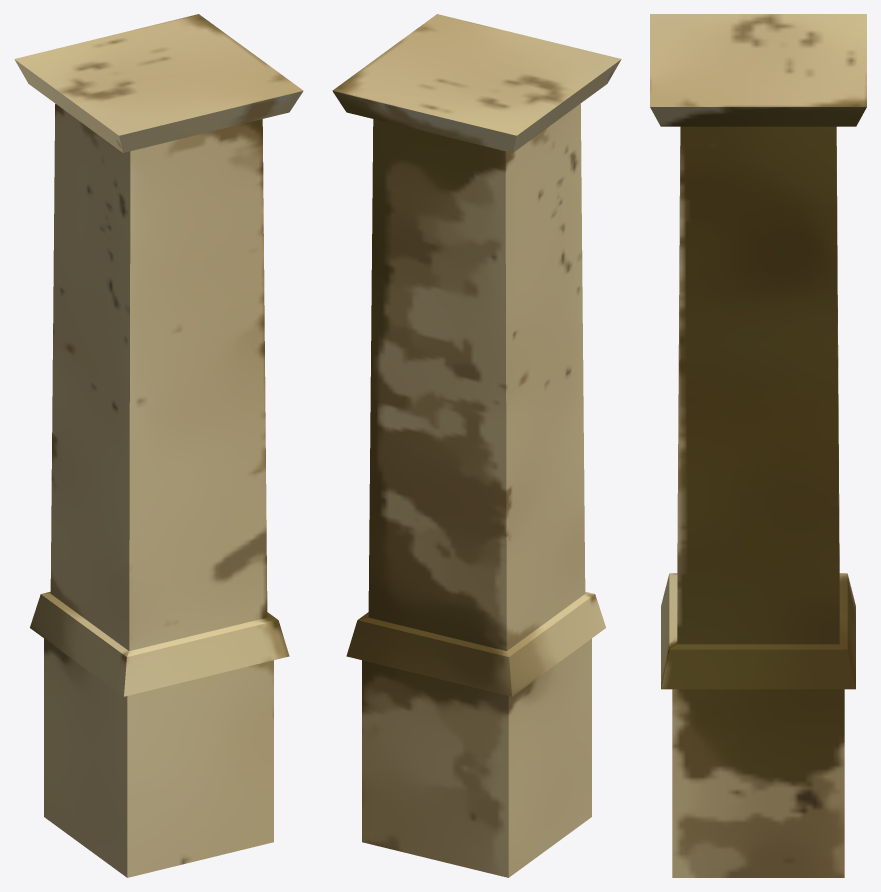
File: Rome_Village_Props_34.FBX
3 renders of one model, left to right at view 1: azimuth 30°, elevation 25°; view 2: azimuth 150°, elevation 25°; view 3: azimuth 270°, elevation 25°, orthographic. The views are drawn at different scales.
Parts seen in each view (by area): view 1: Rome_Village_Props_34; view 2: Rome_Village_Props_34; view 3: Rome_Village_Props_34.
Boxes of the visible parts, x1=… form: Rome_Village_Props_34: x1=14, y1=14, x2=303, y2=877; Rome_Village_Props_34: x1=332, y1=14, x2=621, y2=877; Rome_Village_Props_34: x1=650, y1=14, x2=866, y2=877.
Size of the model in its own units: 80.61 by 315 by 79.35.
